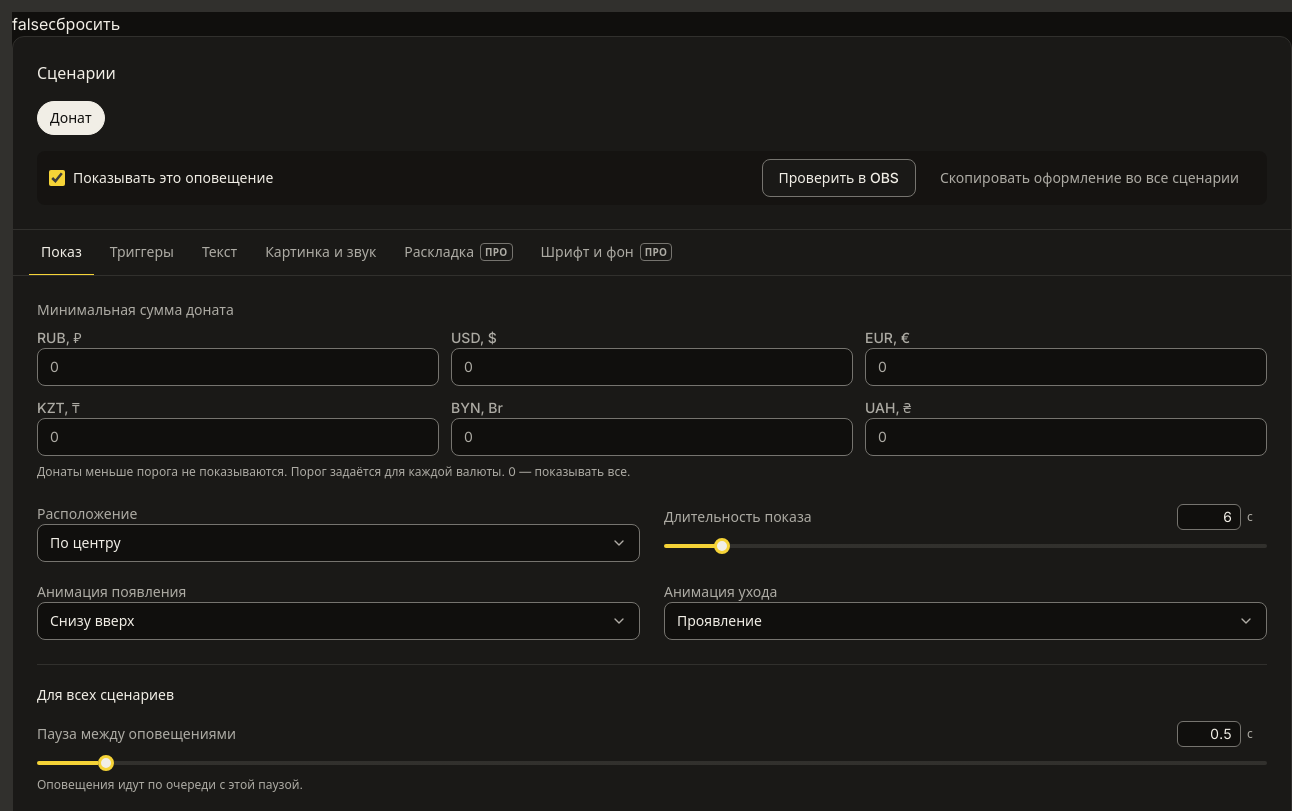
Scenario: несохранённые изменения › порог: стёртая сумма равна незаданной
The image size is (1292, 811).
Type "500" into the field labelled "RUB, ₽" at [238, 367], box [37,348,439,386]
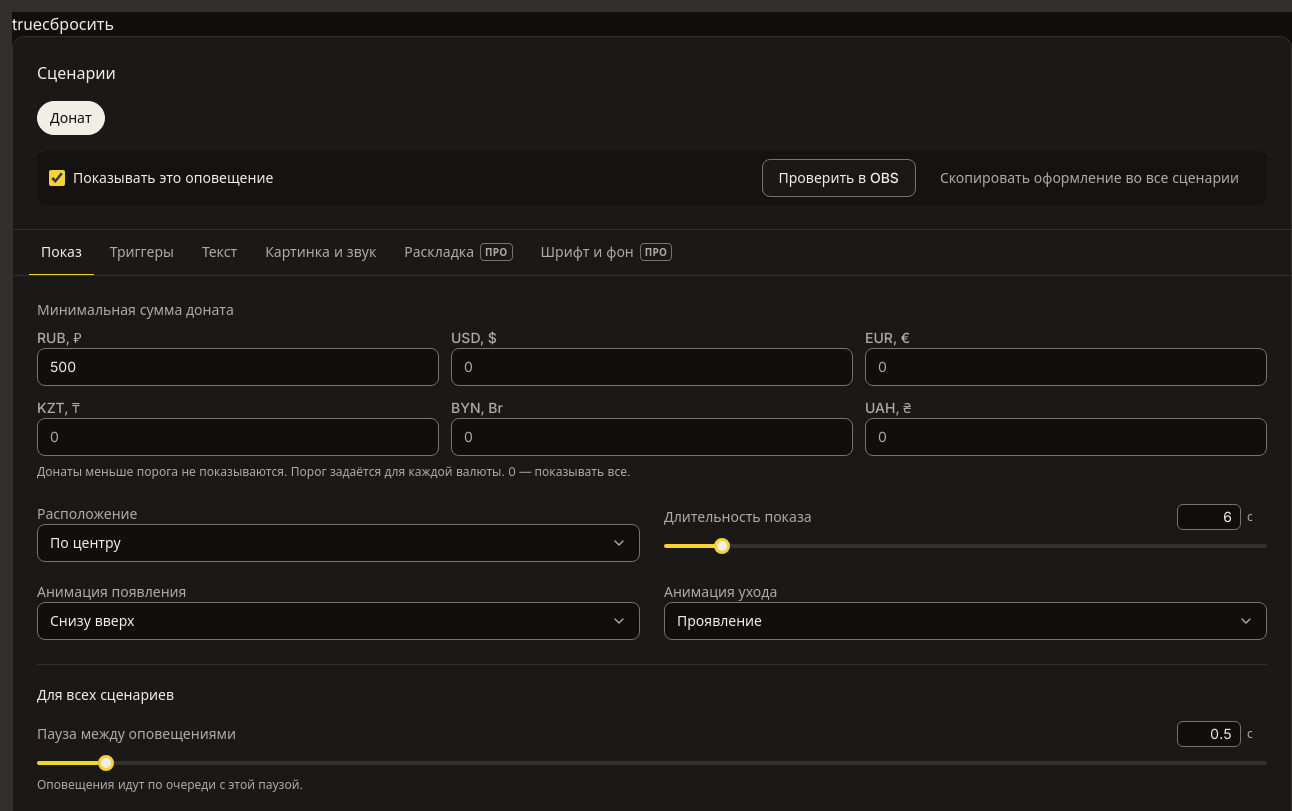
Expected: the text with test id "dirty" reads "true", [12,14,42,34]
Clear the field labelled "RUB, ₽" at [238, 367], box [37,348,439,386]
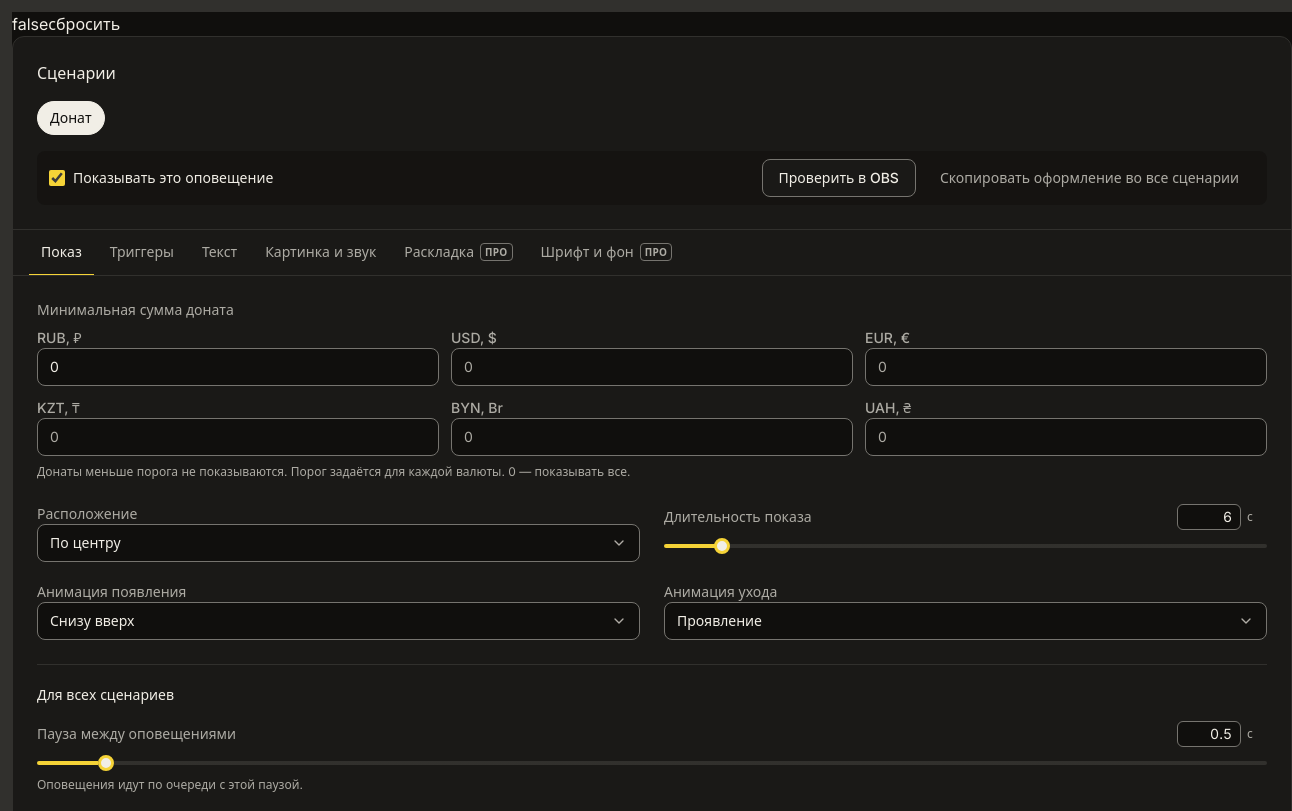
Expected: the text with test id "dirty" reads "false", [12,14,48,34]
